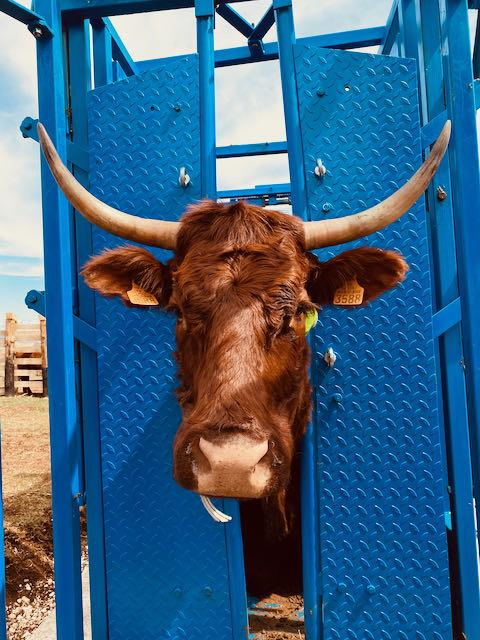muzzles: (169, 426, 298, 509)
